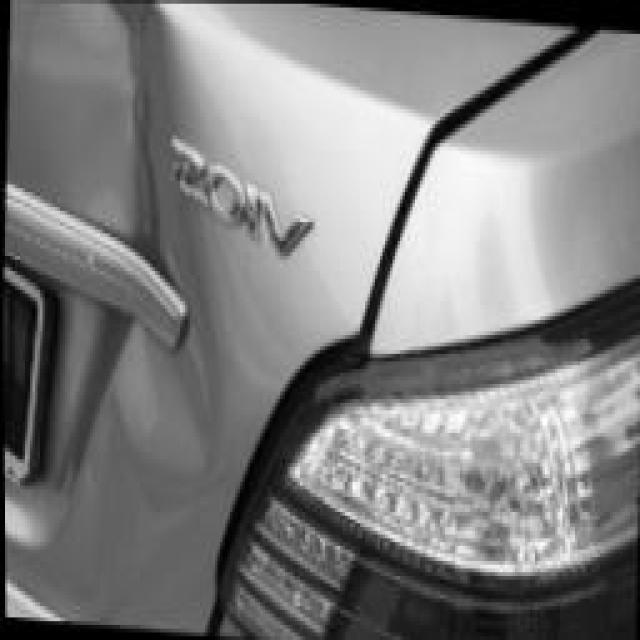Dickey: (2, 0, 568, 620)
